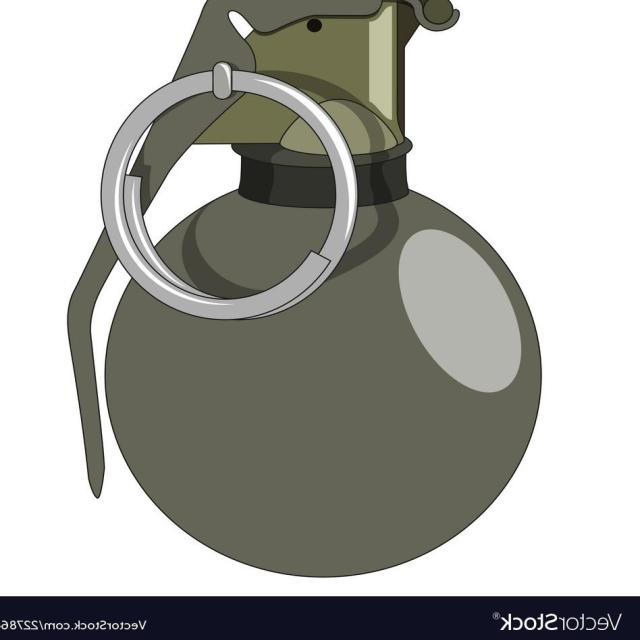grenade: (68, 1, 542, 579)
